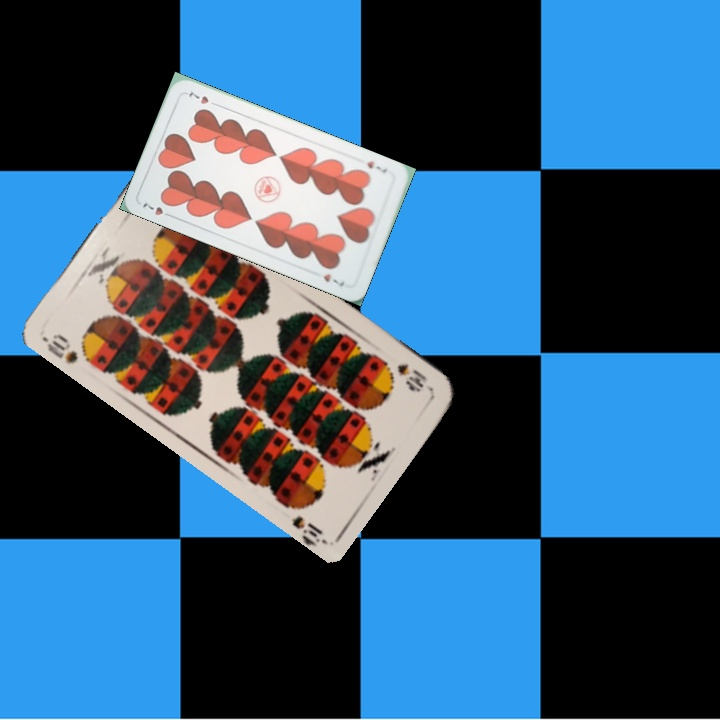H7: (138, 198, 176, 220), (363, 157, 389, 175)
S10: (39, 329, 81, 367), (392, 359, 435, 393)
